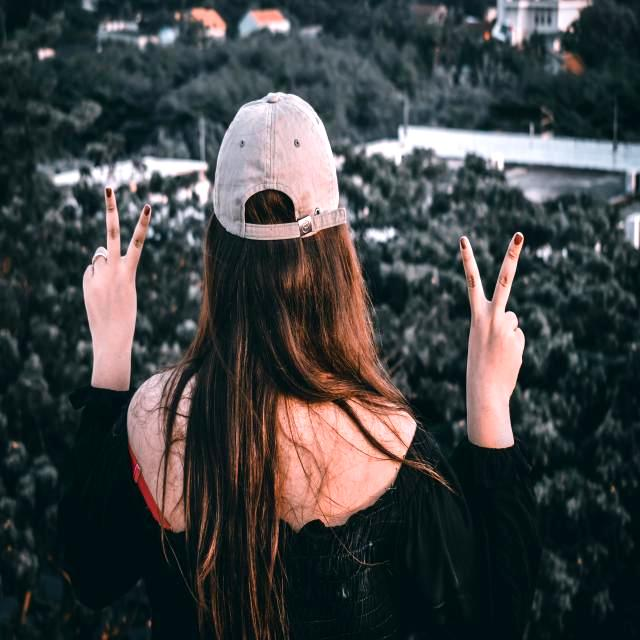no_hard_hat: (214, 93, 345, 240)
person: (60, 93, 540, 640)
